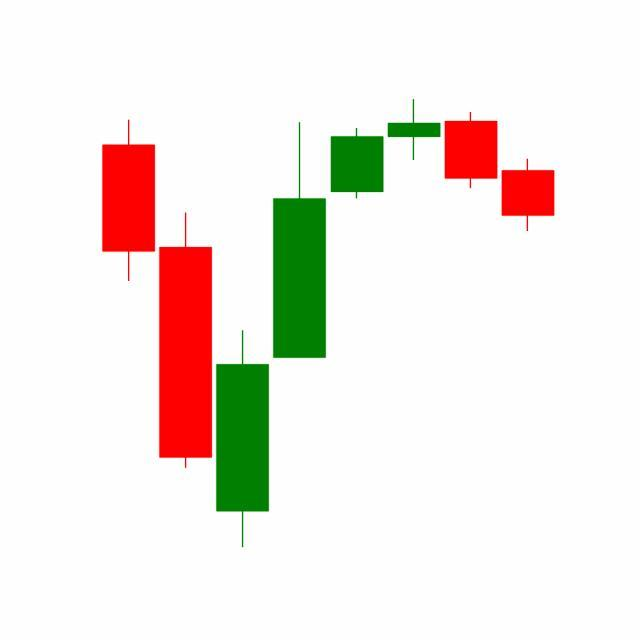Hikkake Pattern: (270, 99, 555, 362)
